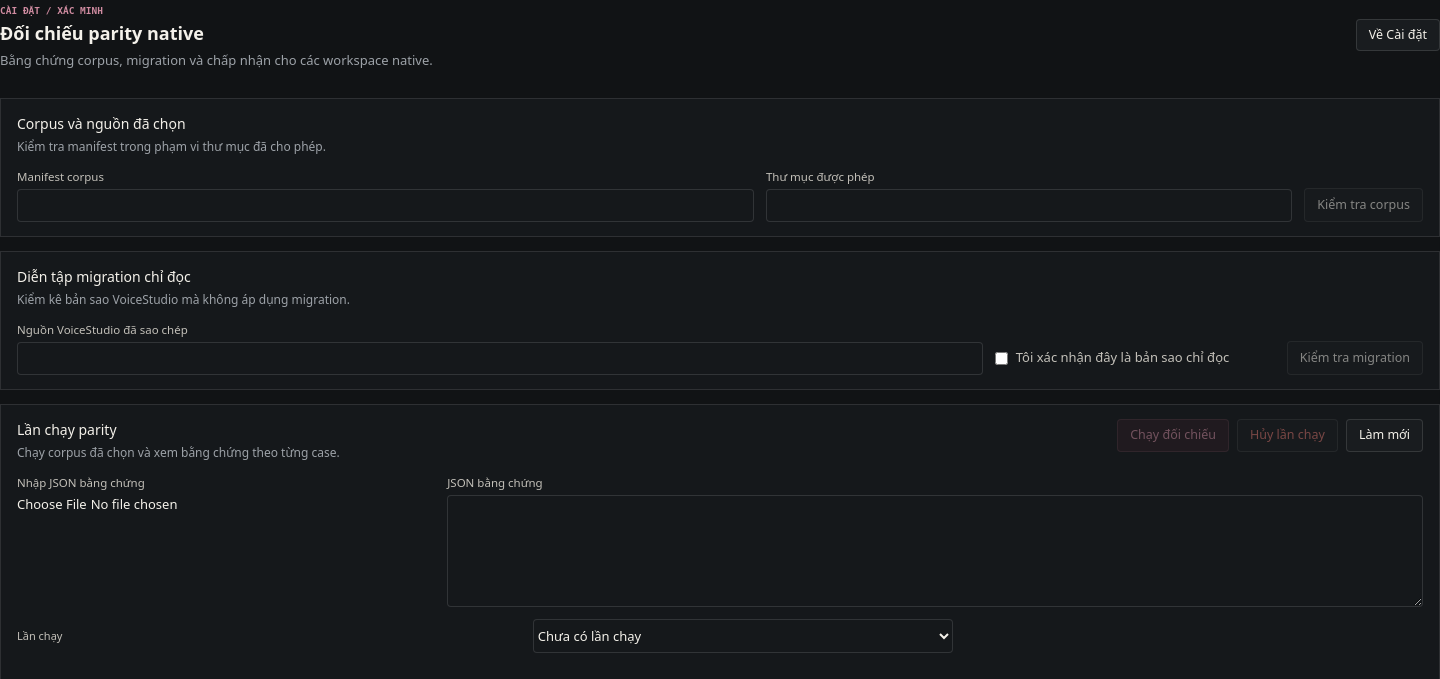
Test case: ParityPage › shows corpus readiness and migration grouped totals from inspection responses
Type "D:/fixtures/manifest.json" into the field labelled "Manifest corpus" at {"x": 385, "y": 206}, box 17,189 -> 754,222
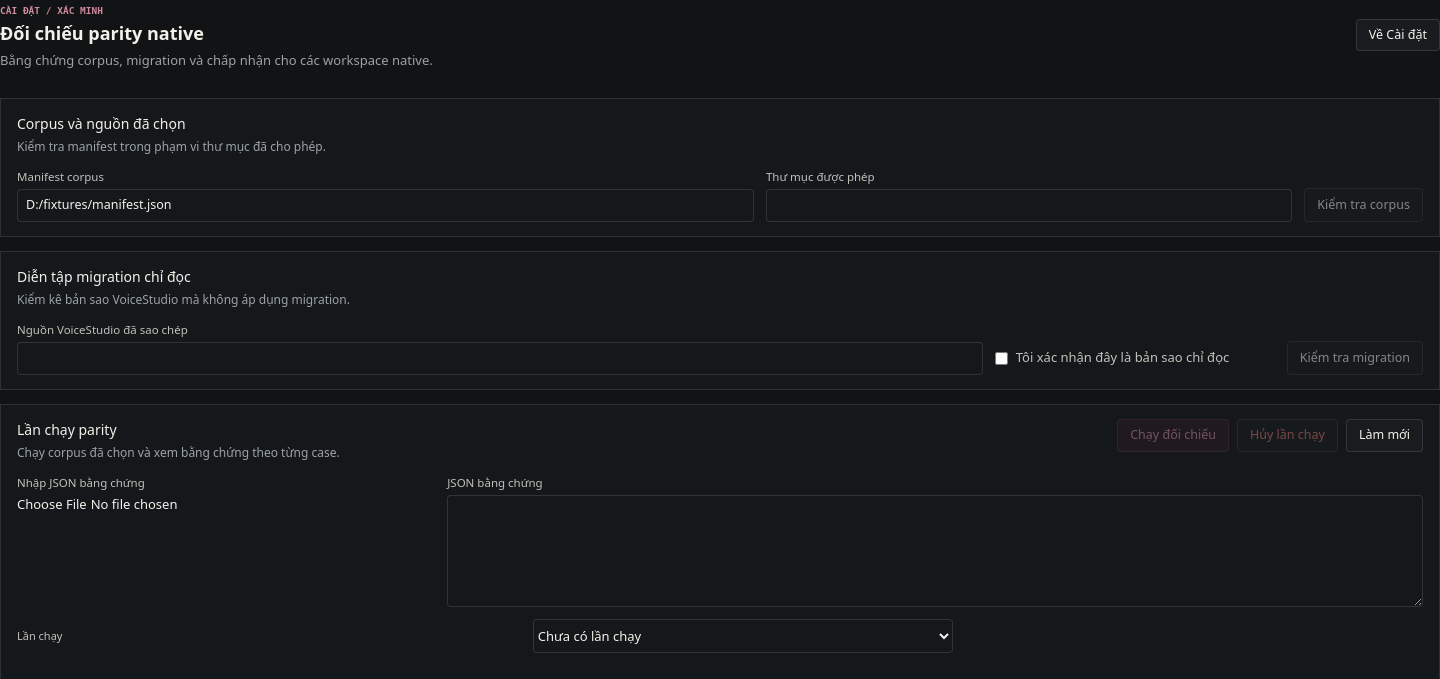
Type "D:/fixtures" into the field labelled "Thư mục được phép" at {"x": 1029, "y": 206}, box 766,189 -> 1292,222
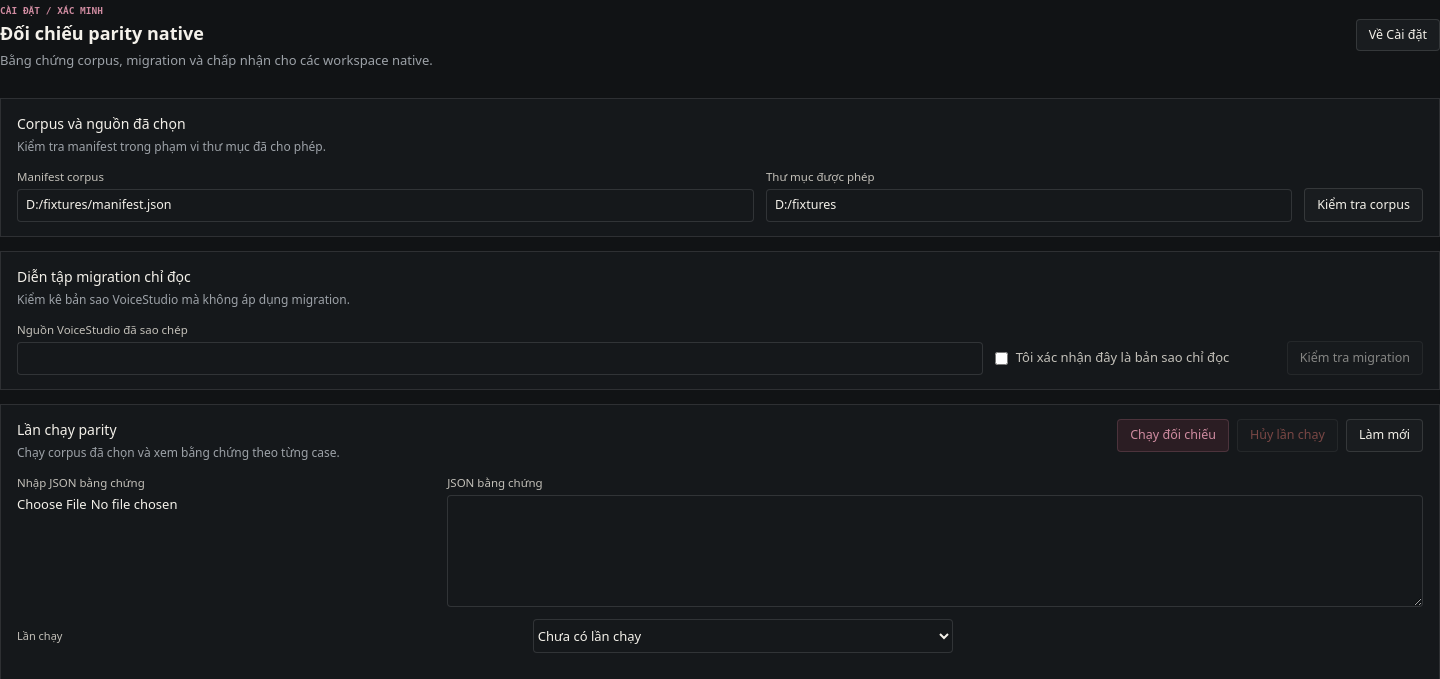
Click the button "Kiểm tra corpus" at {"x": 1364, "y": 205}, box 1304,188 -> 1423,222
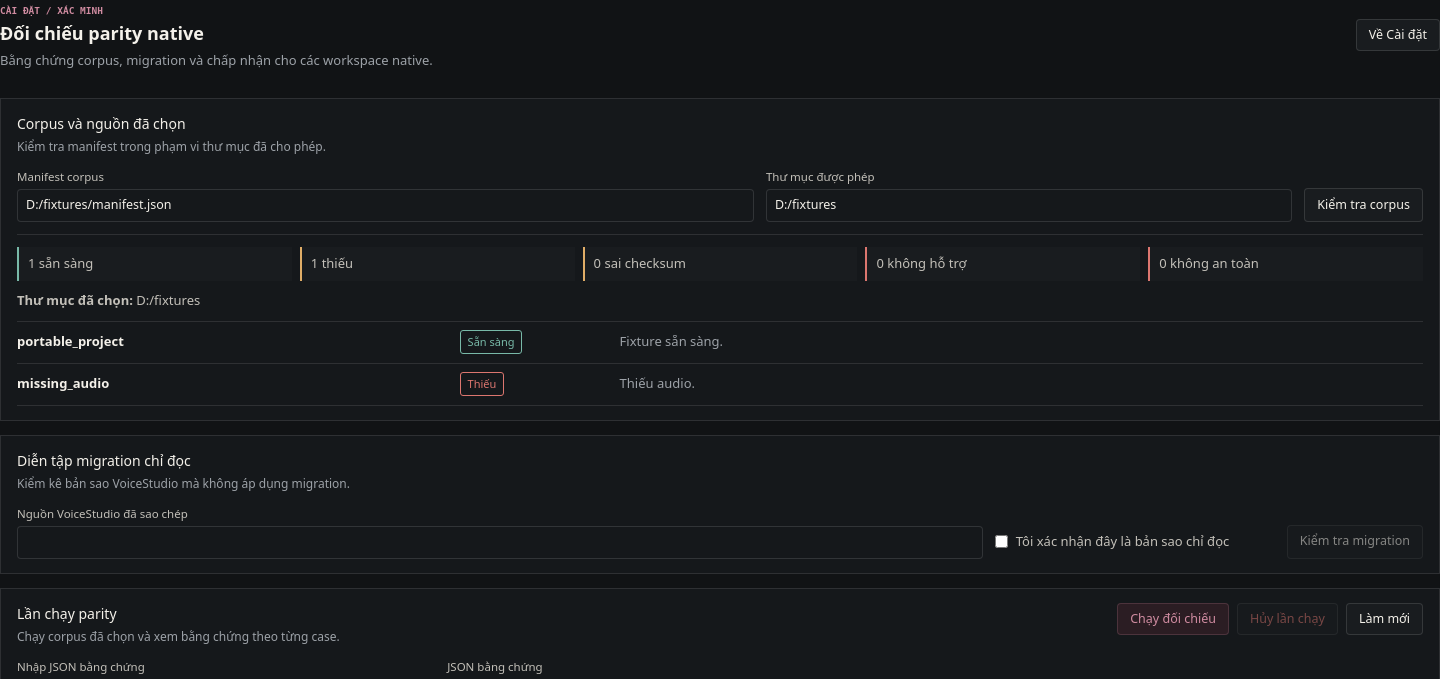
Result: the text "1 sẵn sàng" is shown at 17,247 -> 292,281
Result: the text "1 thiếu" is shown at 300,247 -> 575,281
Result: the text "D:/fixtures" is shown at 136,291 -> 200,309
Type "D:/copied-voice" into the field labelled "Nguồn VoiceStudio đã sao chép" at {"x": 500, "y": 542}, box 17,526 -> 983,559
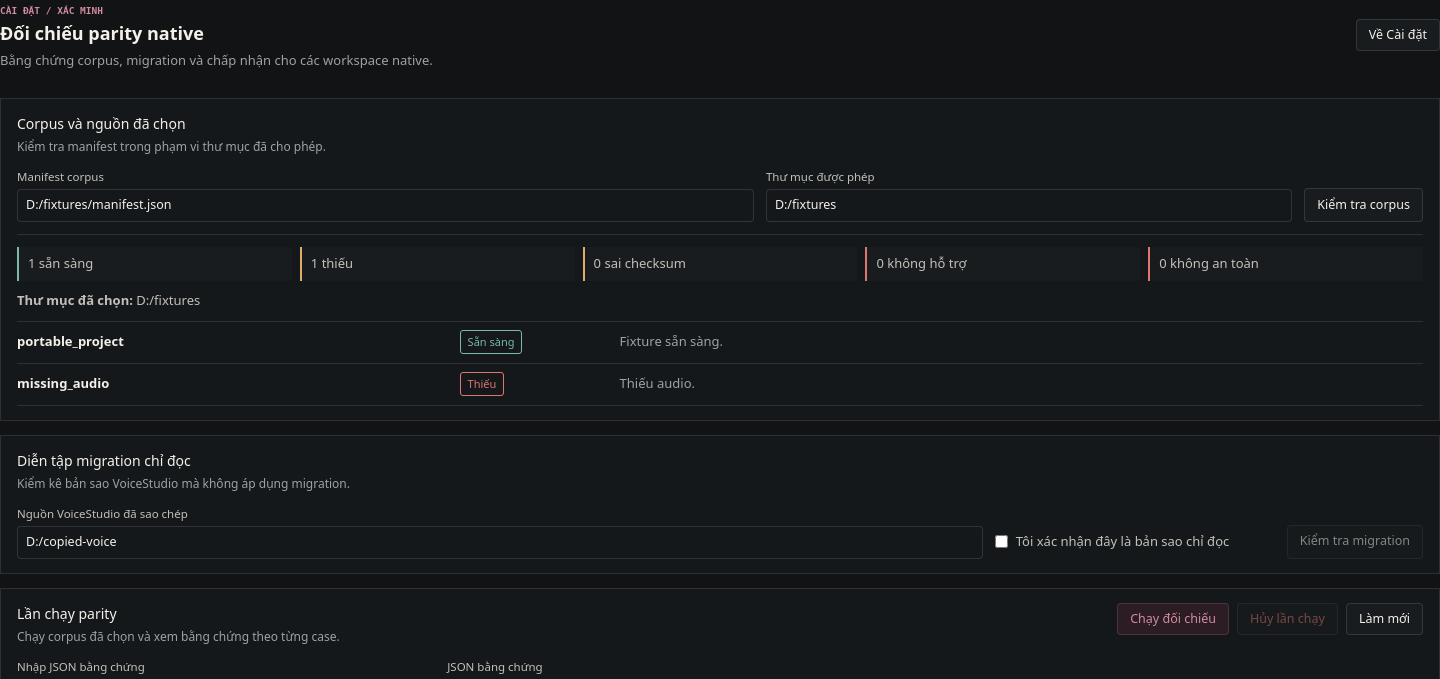
Click the checkbox labelled "Tôi xác nhận đây là bản sao chỉ đọc" at {"x": 1001, "y": 542}, box 995,535 -> 1008,548
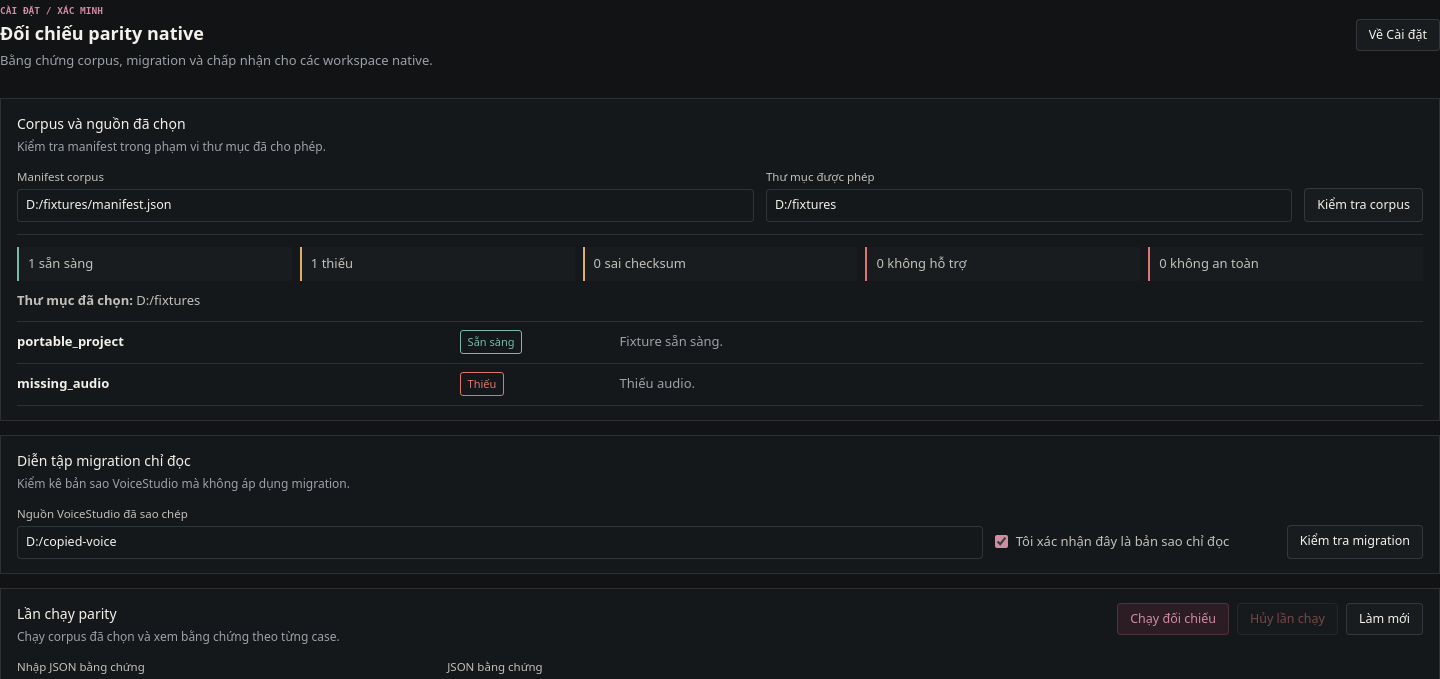
Click the button "Kiểm tra migration" at {"x": 1355, "y": 542}, box 1287,524 -> 1423,558
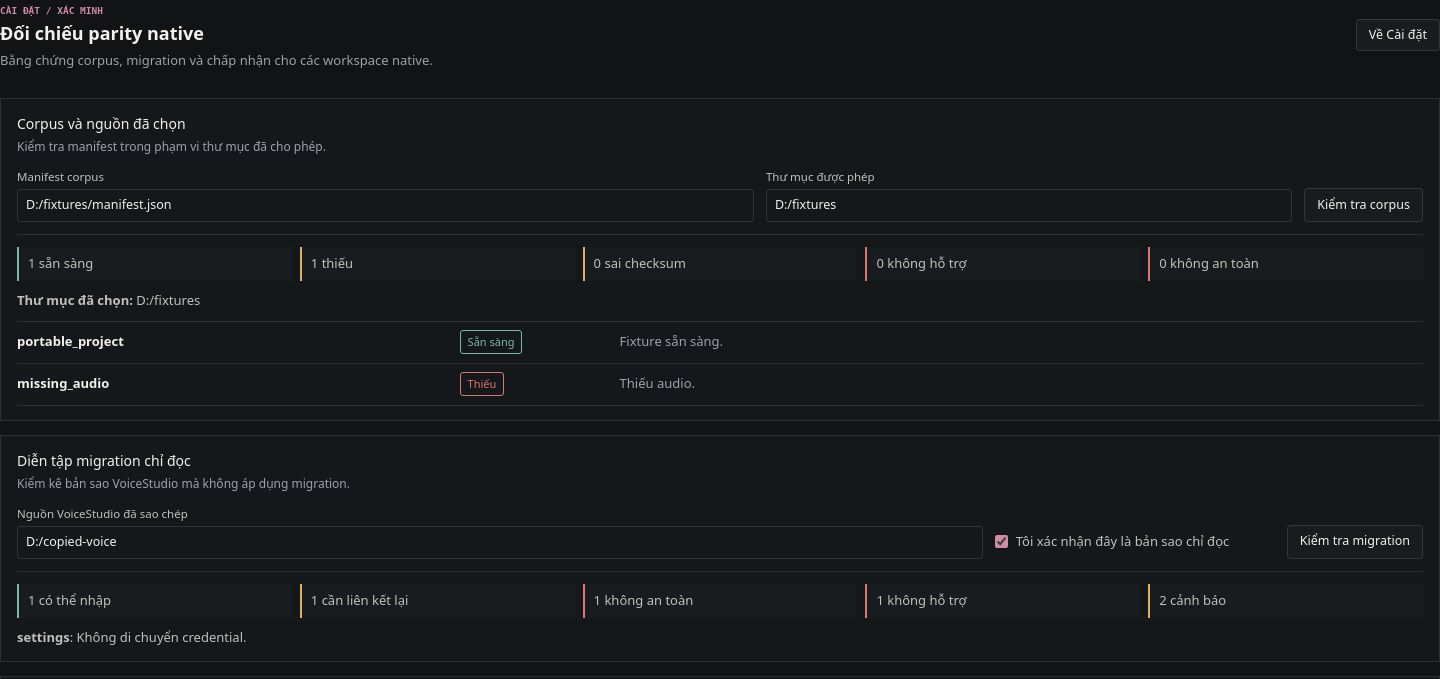
Result: the text "1 có thể nhập" is shown at 17,584 -> 292,618
Result: the text "1 cần liên kết lại" is shown at 300,584 -> 575,618
Result: the text "1 không hỗ trợ" is shown at 865,584 -> 1140,618
